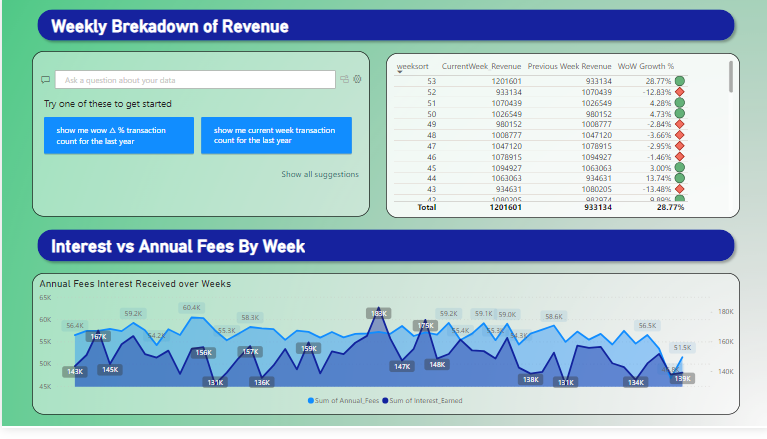

Layout of this report page (visuals, bound fields, positions):
{"tool":"powerbi","page":{"name":"WeeK Growth","canvas":[1280,720],"ordinal":2},"visuals":[{"type":"tableEx","fields":{"Values":["ccdb cc_detail.weeksort","ccdb cc_detail.CurrentWeek_Revenue","ccdb cc_detail.PrevioustWeek_Revenue","ccdb cc_detail.WoW Growth %"]},"box":[640,95,590,275],"z":0},{"type":"qnaVisual","box":[50,91.4,562.9,275.7],"z":1000},{"type":"areaChart","title":"Annual Fees Interest Received over Weeks","fields":{"Y":["Sum(ccdb cc_detail.Annual_Fees)"],"Category":["ccdb cc_detail.weeksort"],"Y2":["Sum(ccdb cc_detail.Interest_Earned)"]},"box":[50,462.2,1180,235.6],"z":2000},{"type":"shape","box":[50,13.3,1180,70],"z":3000},{"type":"shape","box":[50,380.2,1180,71.1],"z":4000}]}

Visuals, with their boxes in screenshot pixels (x1, y1, x2, y2), scaled from the page's 1280x720 canvas onto the 767x439 screenshot:
tableEx - ccdb cc_detail.weeksort x ccdb cc_detail.CurrentWeek_Revenue: 384/58/737/226
qnaVisual: 30/56/367/224
"Annual Fees Interest Received over Weeks" areaChart: 30/282/737/425
shape: 30/8/737/51
shape: 30/232/737/275
